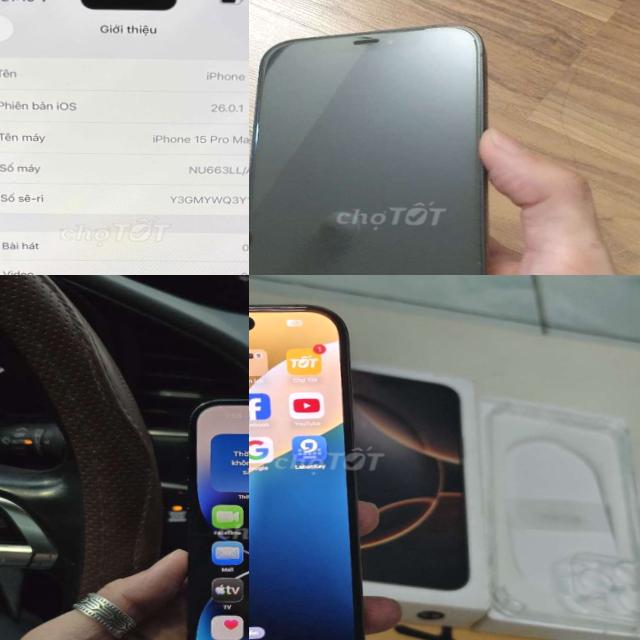gen_12_13: (249, 0, 532, 275)
gen_14: (175, 384, 249, 640)
gen_15: (0, 0, 249, 275)
gen_16: (249, 305, 363, 640)
